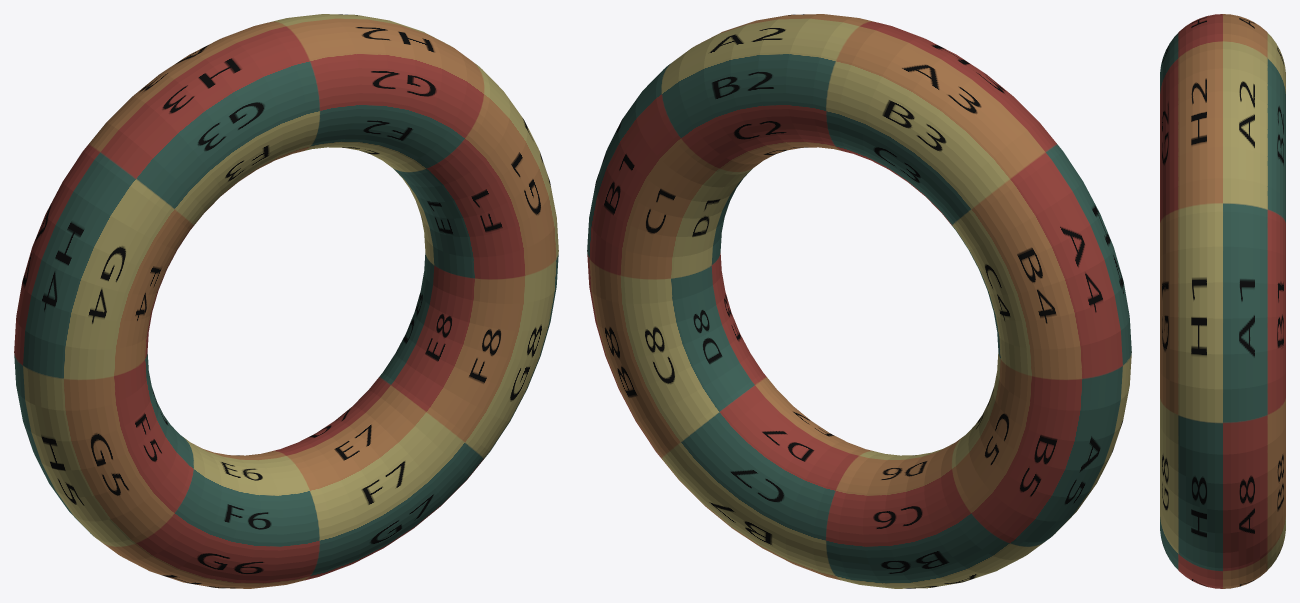
Rendered from texture_torus_R17_r15.glb.
3 renders of one model, left to right at view 1: azimuth 30°, elevation 25°; view 2: azimuth 150°, elevation 25°; view 3: azimuth 270°, elevation 25°, orthographic. The views are drawn at different scales.
Parts seen in each view (by area): view 1: world; view 2: world; view 3: world.
Boxes of the visible parts, <box> form: world: <box>14,14,558,588</box>; world: <box>587,14,1131,588</box>; world: <box>1160,14,1285,588</box>.
Size of the model in its own units: 27.33 by 27.28 by 5.99.
Materials: 1 (1 with a texture image).
